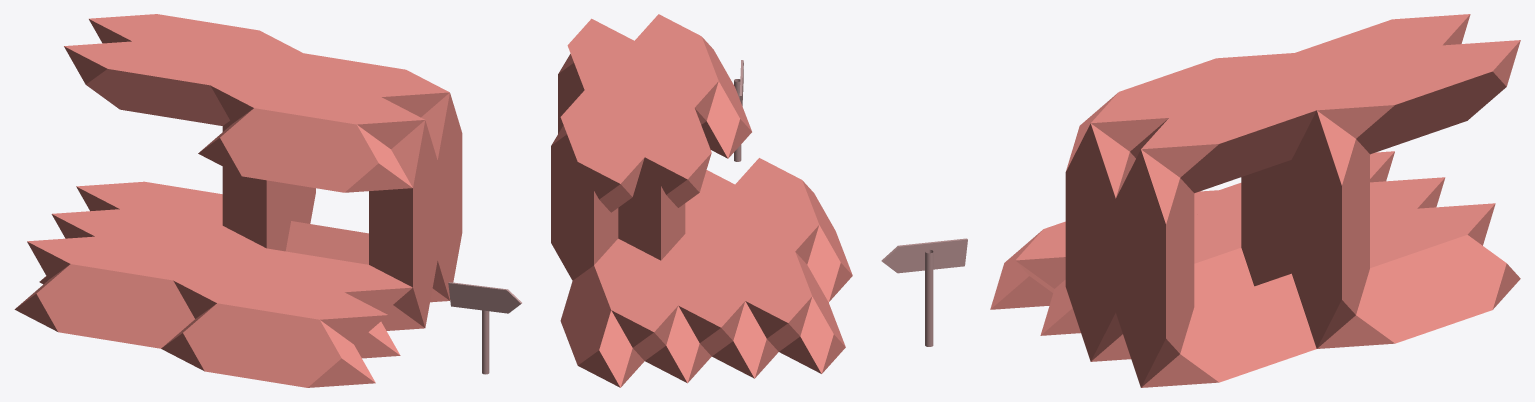
3 views of the same model, side by side, from view 1: azimuth 30°, elevation 25°; view 2: azimuth 150°, elevation 25°; view 3: azimuth 270°, elevation 25° (orthographic). The views are drawn at different scales.
Parts seen in each view (by area): view 1: p; view 2: p; view 3: p.
Boxes of the visible parts, box(x1,y1,x2,y2) form: p: box(14, 14, 521, 387); p: box(551, 14, 852, 387); p: box(881, 14, 1520, 387).
Bounding box in the file's own units: 0.0072 × 0.004 × 0.00972.
